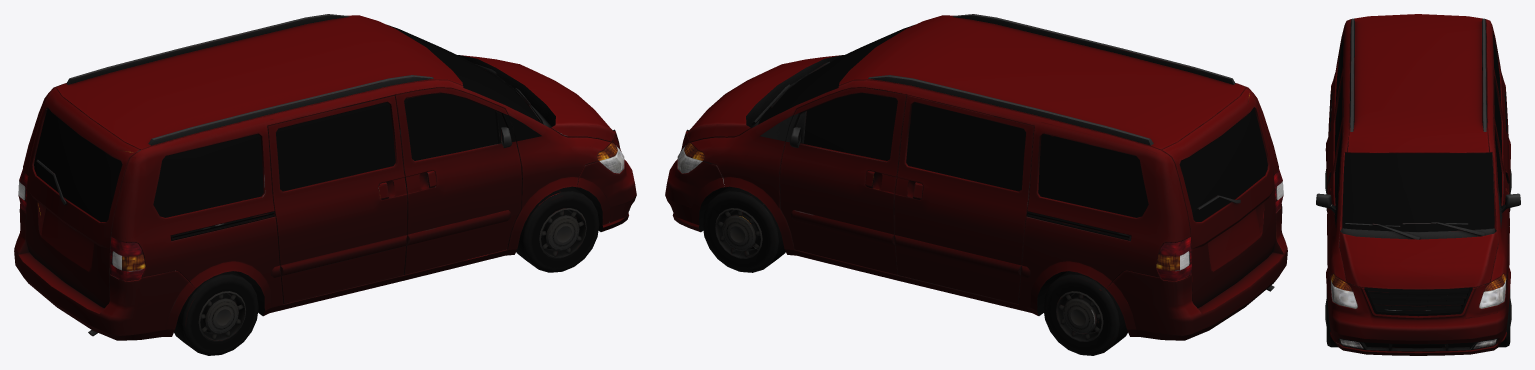
The model's file is car1.obj.
3 renders of one model, left to right at view 1: azimuth 30°, elevation 25°; view 2: azimuth 150°, elevation 25°; view 3: azimuth 270°, elevation 25°, orthographic. The views are drawn at different scales.
Parts seen in each view (by area): view 1: bake; view 2: bake; view 3: bake.
Boxes of the visible parts, left/top/right/bottom form: bake: left=14, top=14, right=636, bottom=355; bake: left=665, top=14, right=1287, bottom=355; bake: left=1316, top=14, right=1520, bottom=355.
Size of the model in its own units: 4.61 by 1.76 by 1.87.
Materials: 1 (1 with a texture image).
